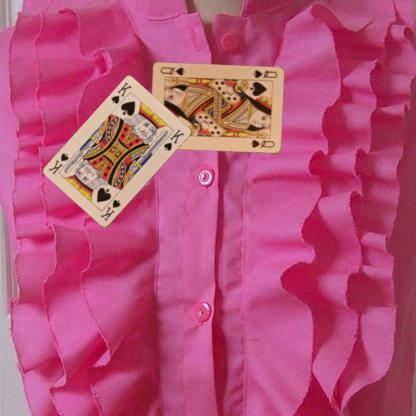Ks: (98, 197, 122, 222), (109, 80, 133, 105)
Qs: (251, 68, 278, 80)
